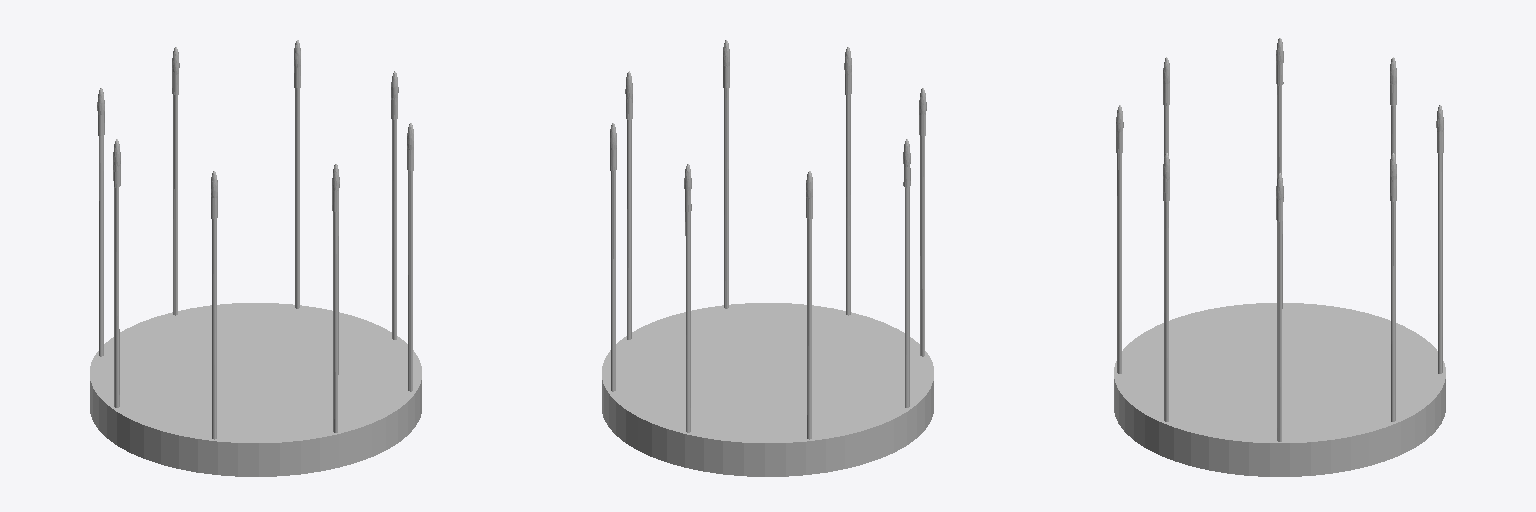
Rendered from pisteAtterrissage.obj.
3 views of the same model, side by side, from view 1: azimuth 30°, elevation 25°; view 2: azimuth 150°, elevation 25°; view 3: azimuth 270°, elevation 25° (orthographic).
Parts seen in each view (by area): view 1: pisteAtterrissage; view 2: pisteAtterrissage; view 3: pisteAtterrissage.
Boxes of the visible parts, x1=… form: pisteAtterrissage: x1=90, y1=40, x2=421, y2=476; pisteAtterrissage: x1=602, y1=40, x2=933, y2=476; pisteAtterrissage: x1=1114, y1=38, x2=1445, y2=476.
Size of the model in its own units: 1 by 1 by 1.